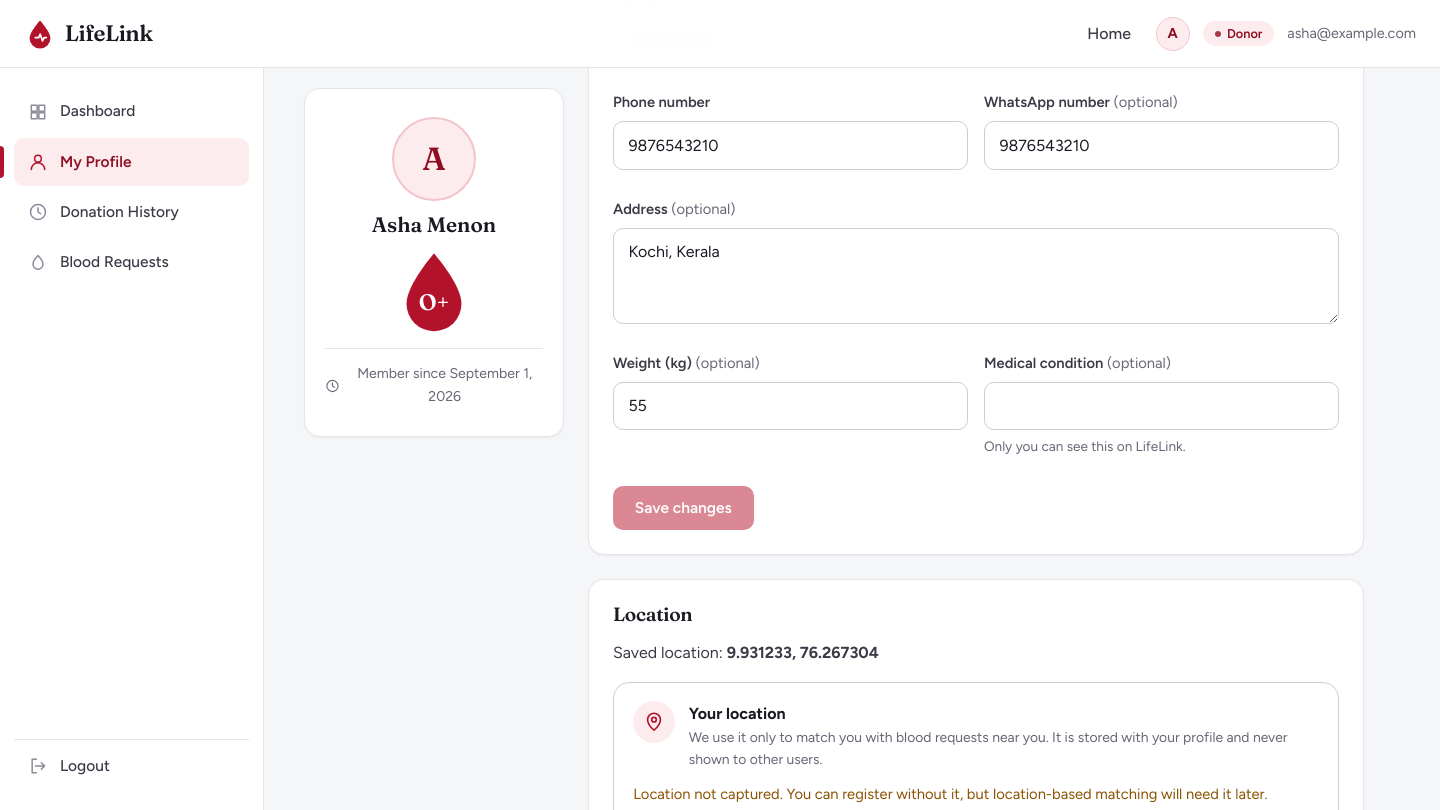
Test case: donor profile › validates before sending and shows server errors next to fields
(page scrolled)
Replace the text in the number field labelled "Weight (kg) (optional)" with "0" at (790, 406), box [613,382,968,430]
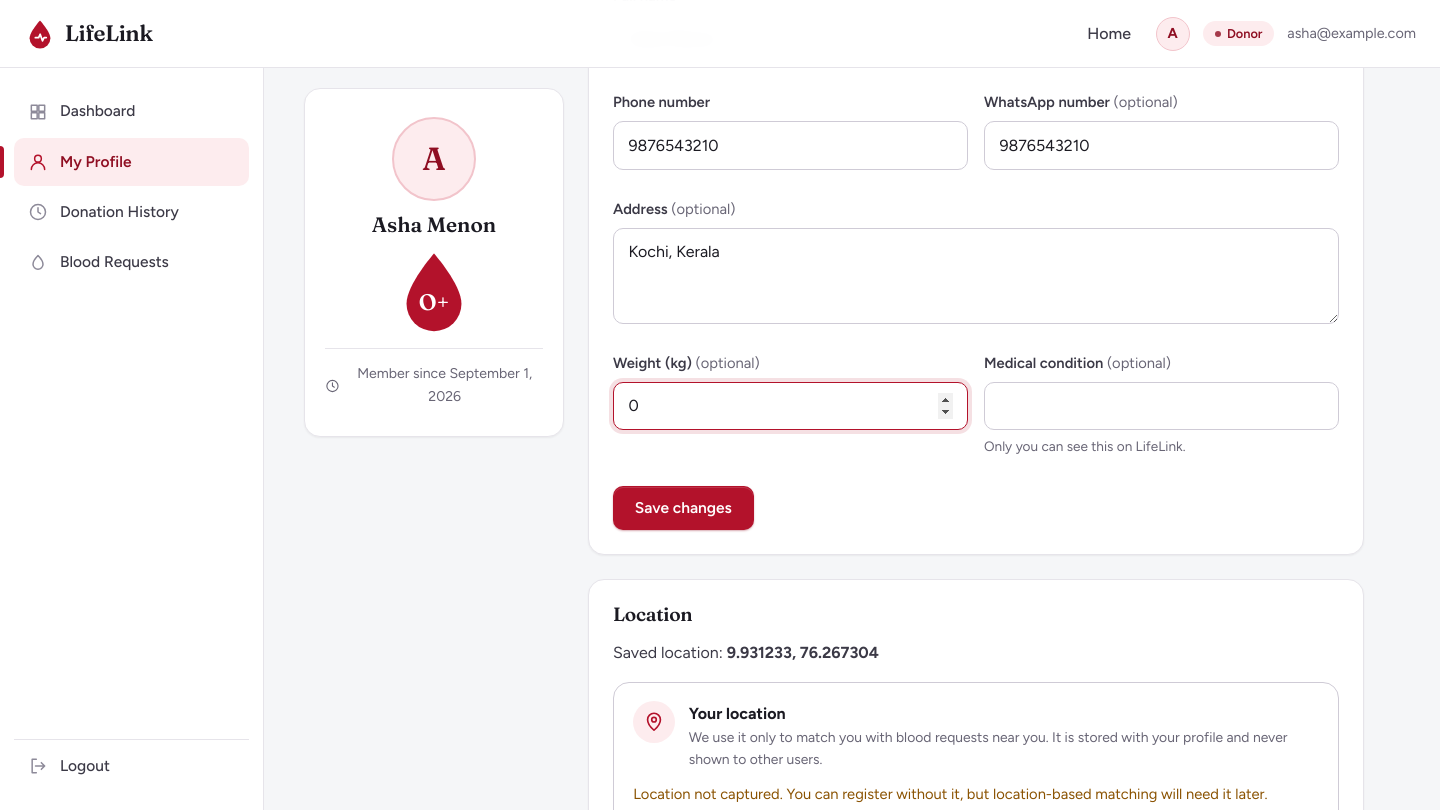
Click the button "Save changes" at (683, 508), box [613,486,754,530]
(page scrolled)
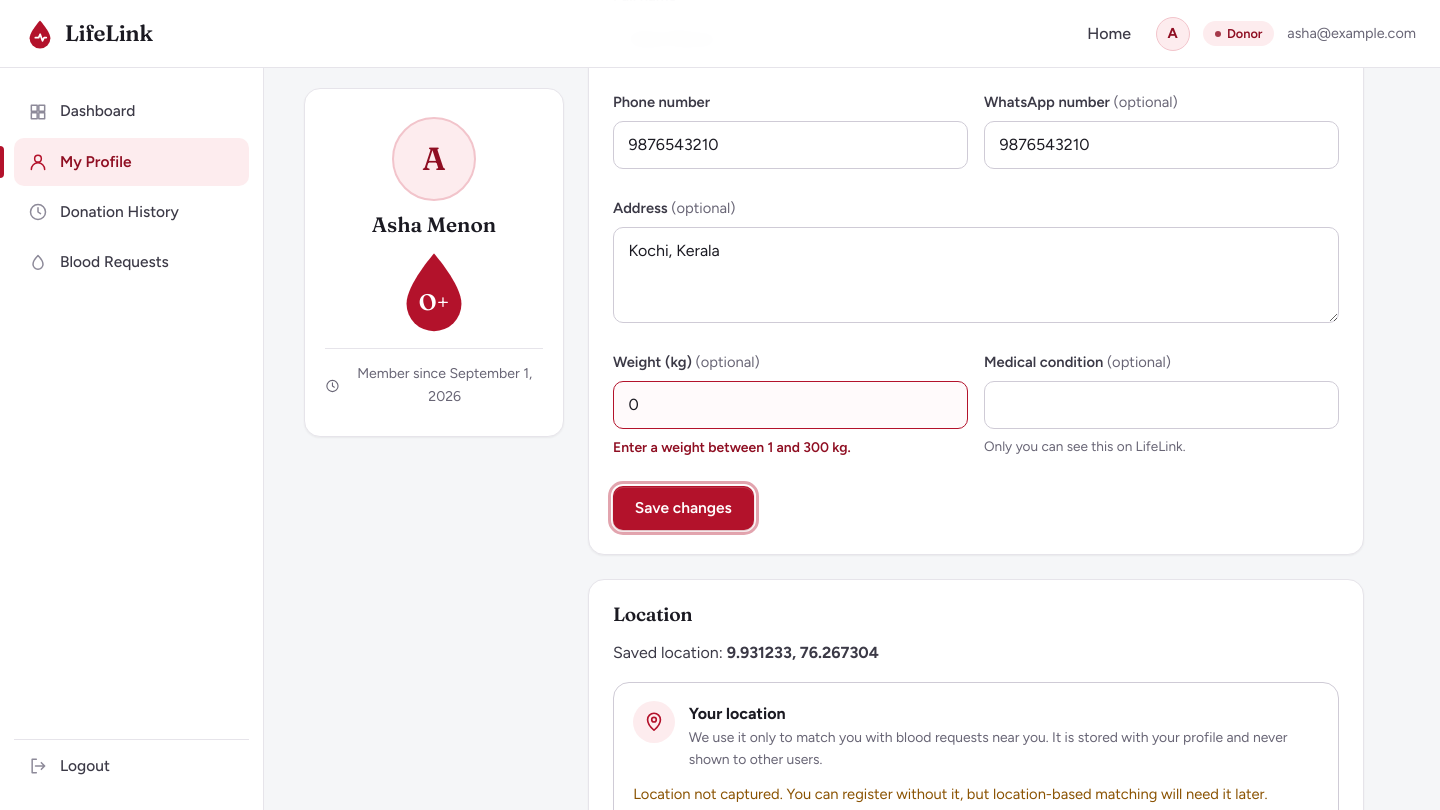
Expected: the text "Enter a weight between 1 and 300 kg." is shown, [613,439,851,455]
Replace the text in the number field labelled "Weight (kg) (optional)" with "60" at (790, 405), box [613,381,968,429]
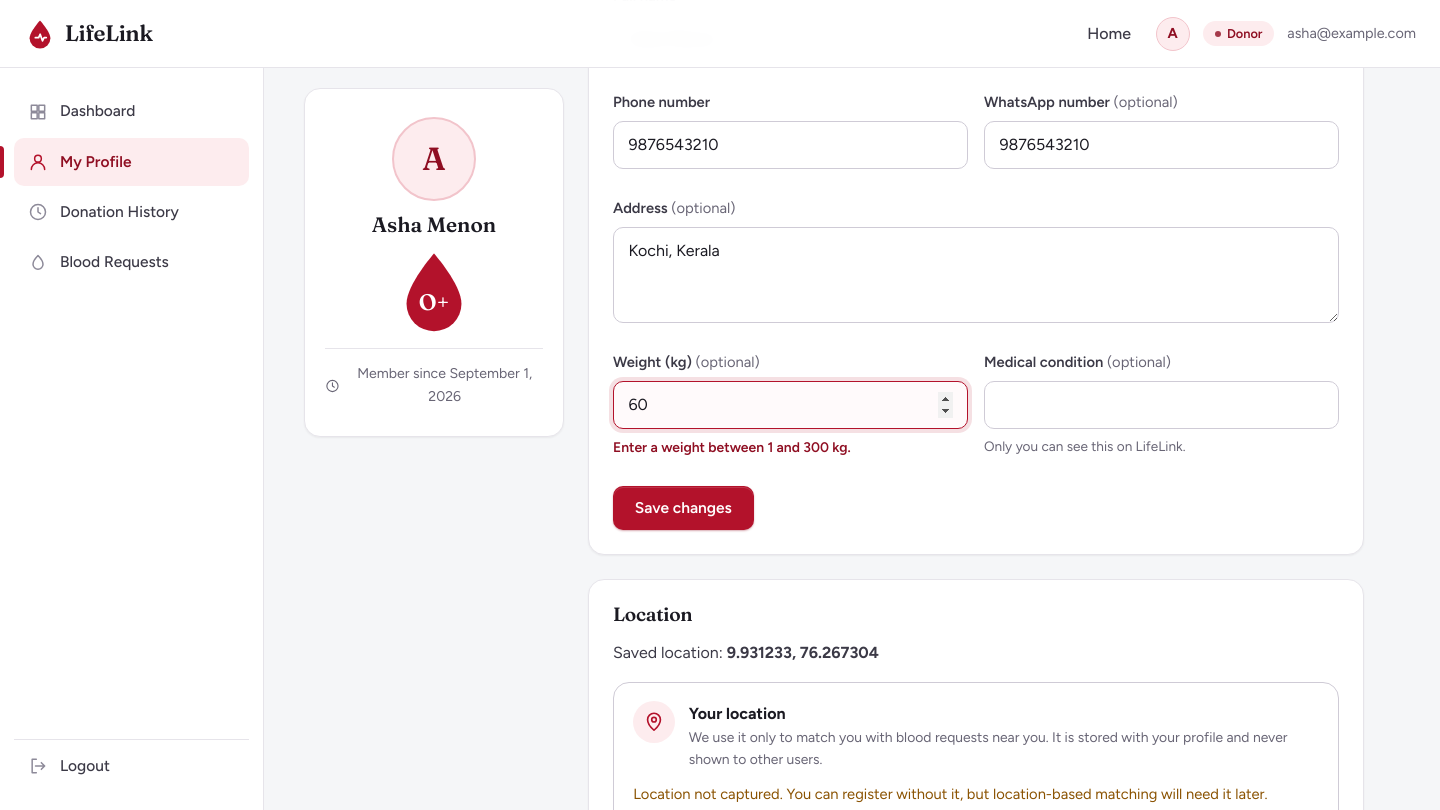
Click the button "Save changes" at (683, 508), box [613,486,754,530]
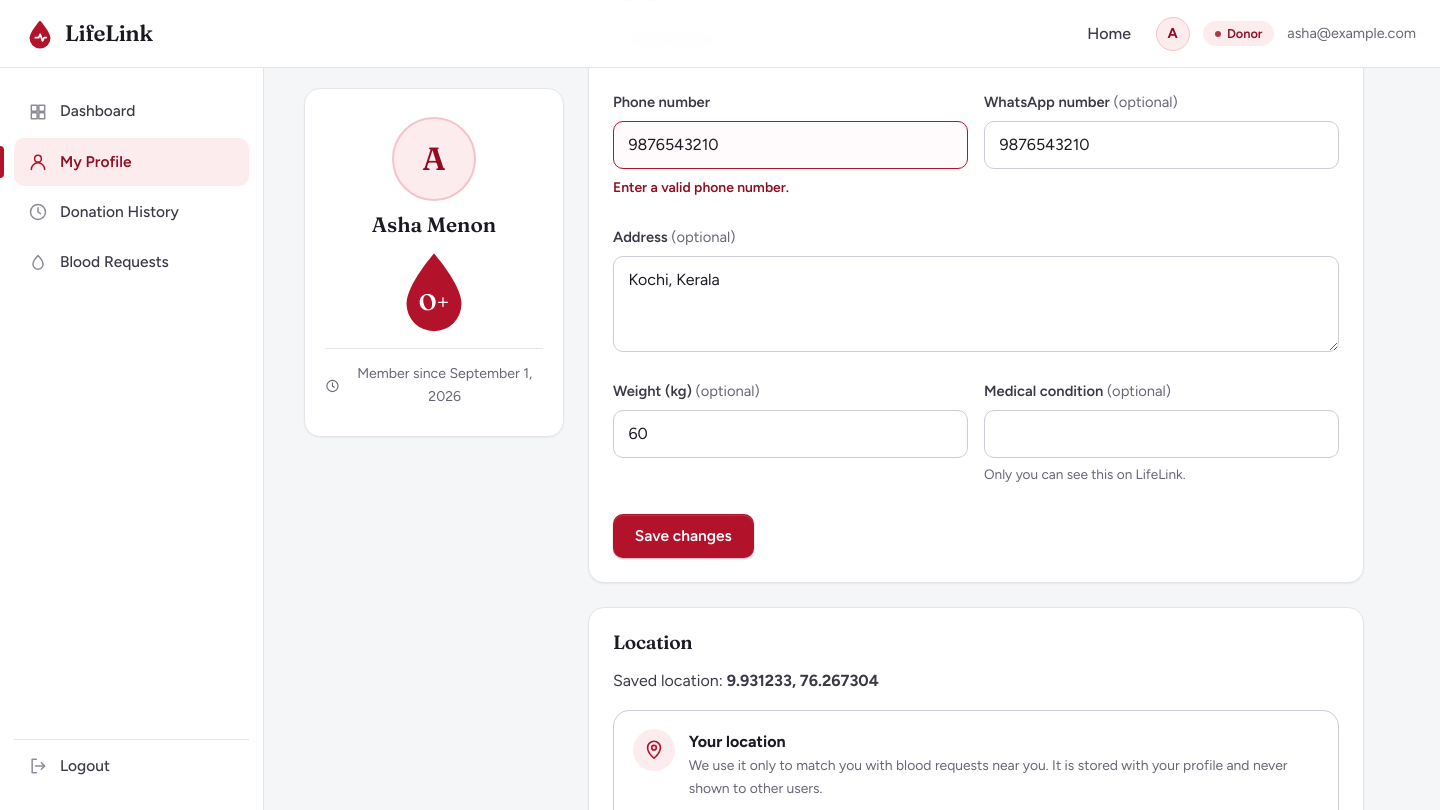
Expected: the text "Enter a valid phone number." is shown, [613,178,789,194]
